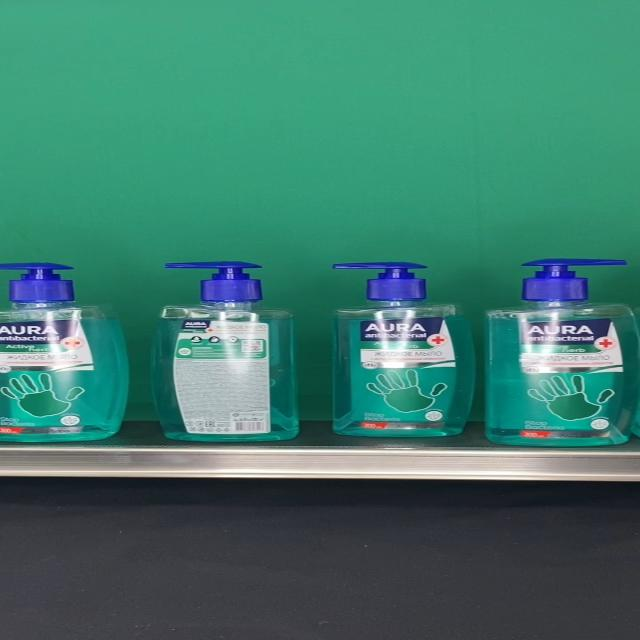Bottle: (485, 257, 640, 446), (149, 262, 300, 441), (330, 260, 476, 438), (0, 262, 130, 442)
Cap: (521, 257, 627, 303), (164, 261, 262, 303), (332, 261, 428, 301), (0, 262, 74, 302)
